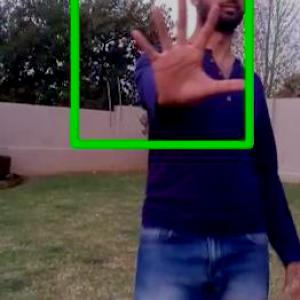follow_hand: (125, 0, 252, 110)
